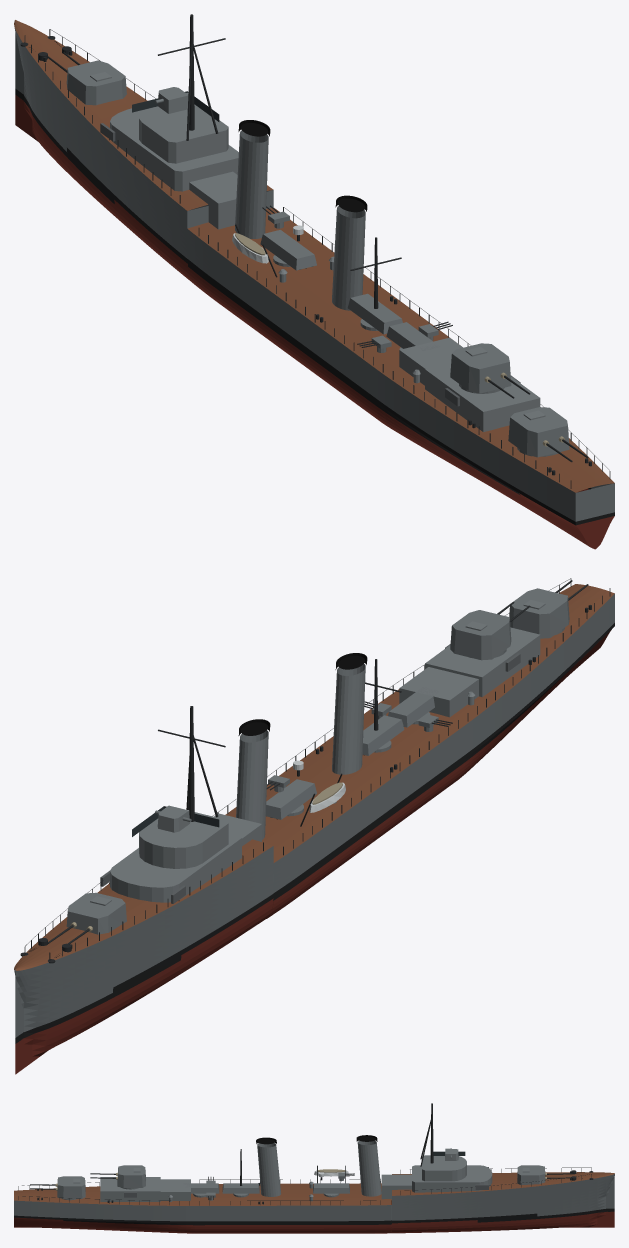
File: fubuki.glb
3 views of the same model, one above another, from view 1: azimuth 30°, elevation 25°; view 2: azimuth 150°, elevation 25°; view 3: azimuth 270°, elevation 25° (orthographic). The views are drawn at different scales.
Visible parts, largest first — view 1: Hull, Mount2, Mount3, Mount1, Torpedo1, Torpedo2, Torpedo3; view 2: Hull, Mount2, Mount3, Mount1, Torpedo1, Torpedo2, Torpedo3, Director; view 3: Hull, Mount2, Mount3, Mount1, Torpedo1, Torpedo2, Torpedo3.
Boxes of the visible parts, left/top/right/bottom form: Hull: left=14, top=14, right=614, bottom=549; Mount2: left=450, top=343, right=530, bottom=398; Mount3: left=508, top=407, right=588, bottom=462; Mount1: left=47, top=52, right=126, bottom=105; Torpedo1: left=260, top=230, right=316, bottom=270; Torpedo2: left=347, top=293, right=402, bottom=334; Torpedo3: left=386, top=322, right=439, bottom=350; Hull: left=14, top=578, right=614, bottom=1074; Mount2: left=450, top=601, right=530, bottom=660; Mount3: left=509, top=580, right=588, bottom=638; Mount1: left=48, top=892, right=126, bottom=944; Torpedo1: left=266, top=779, right=316, bottom=819; Torpedo2: left=362, top=715, right=404, bottom=755; Torpedo3: left=388, top=687, right=438, bottom=727; Director: left=155, top=805, right=191, bottom=832; Hull: left=14, top=1103, right=614, bottom=1233; Mount2: left=90, top=1165, right=145, bottom=1189; Mount3: left=30, top=1176, right=85, bottom=1200; Mount1: left=517, top=1165, right=572, bottom=1184; Torpedo1: left=313, top=1183, right=349, bottom=1197; Torpedo2: left=222, top=1183, right=259, bottom=1197; Torpedo3: left=183, top=1183, right=219, bottom=1197.
Bounding box in the file's own units: 10.95 × 27.2 × 120.
